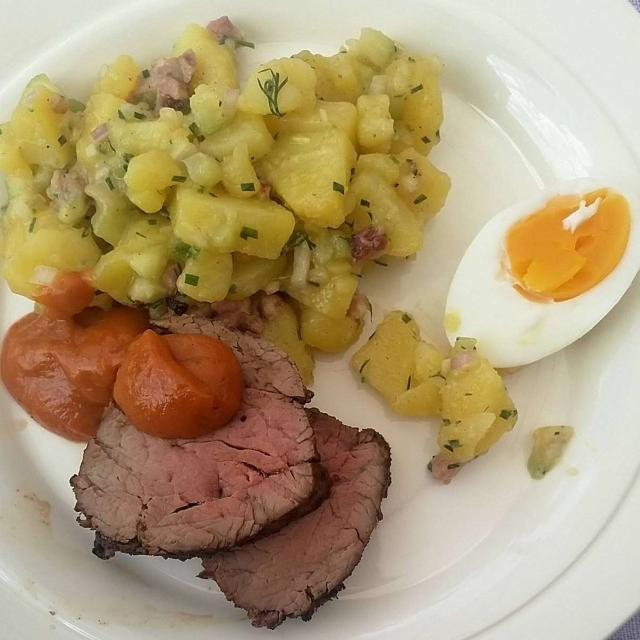bacon: (22, 53, 274, 330)
beef: (65, 320, 399, 613)
egg: (441, 188, 628, 368)
tomato-sauce: (6, 310, 236, 445)
